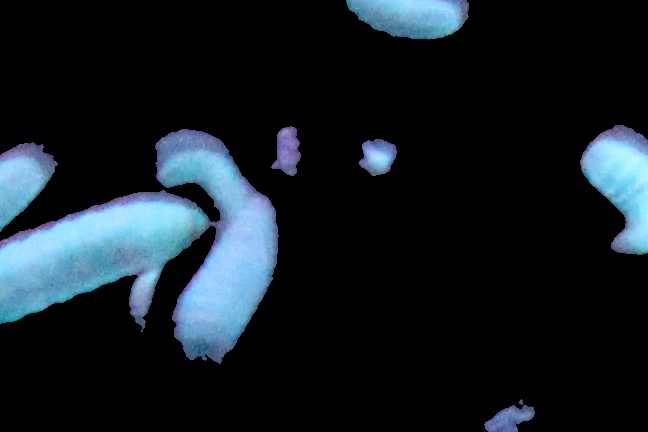larvae: (1, 189, 208, 328), (175, 194, 281, 364), (579, 128, 648, 260), (155, 143, 252, 204), (1, 135, 61, 224), (340, 2, 474, 40)
